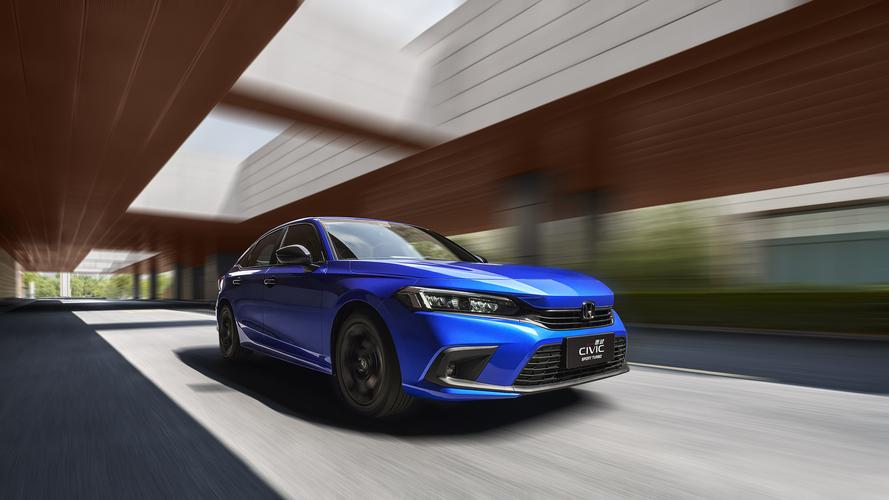汽车: (210, 210, 635, 426)
